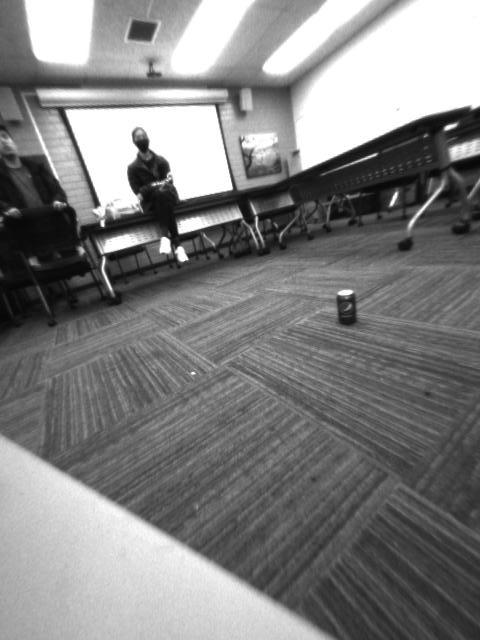can: (334, 287, 360, 328)
